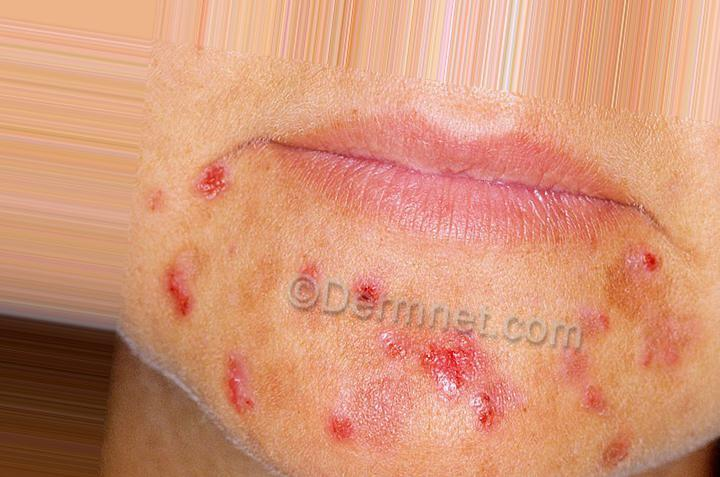Acne: (417, 324, 510, 420), (557, 332, 637, 439), (299, 259, 404, 314), (142, 271, 217, 326), (216, 361, 263, 417), (327, 417, 389, 452), (189, 157, 233, 205)
